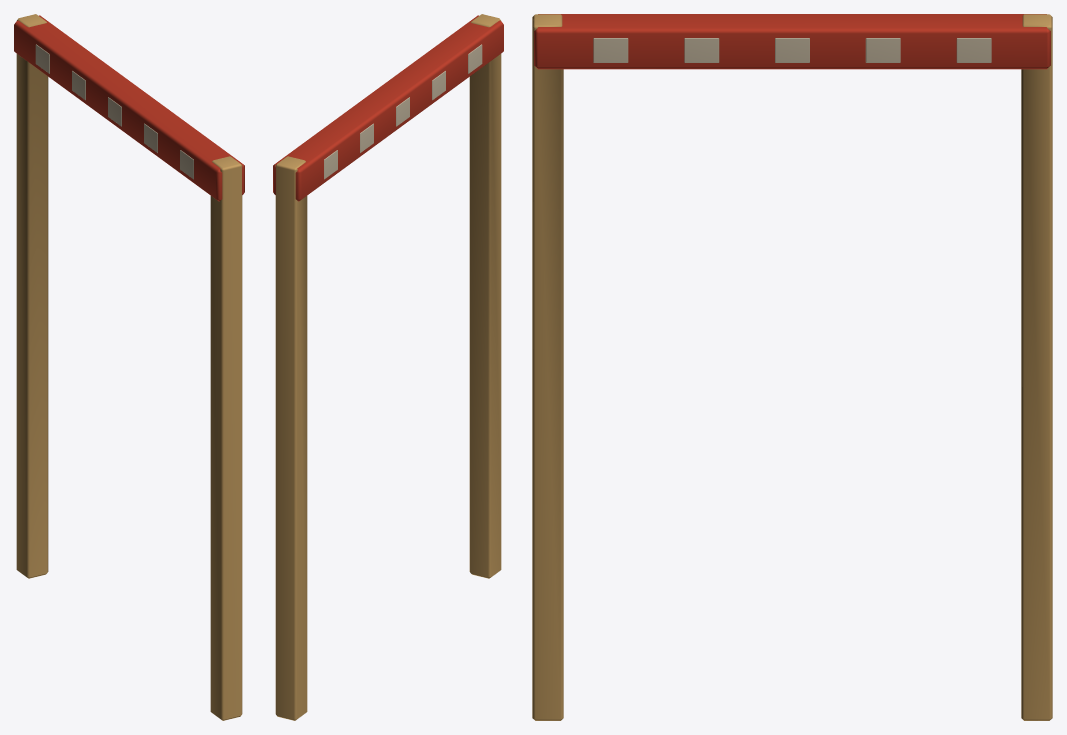
Rendered from zone_gate.glb.
3 views of the same model, side by side, from view 1: azimuth 30°, elevation 25°; view 2: azimuth 150°, elevation 25°; view 3: azimuth 270°, elevation 25° (orthographic). The views are drawn at different scales.
Visible parts, largest first — view 1: zone_gate; view 2: zone_gate; view 3: zone_gate.
Boxes of the visible parts, left/top/right/bottom form: zone_gate: left=14, top=14, right=244, bottom=720; zone_gate: left=273, top=14, right=503, bottom=720; zone_gate: left=532, top=14, right=1052, bottom=720.
Size of the model in its own units: 0.62 by 11 by 7.45.
